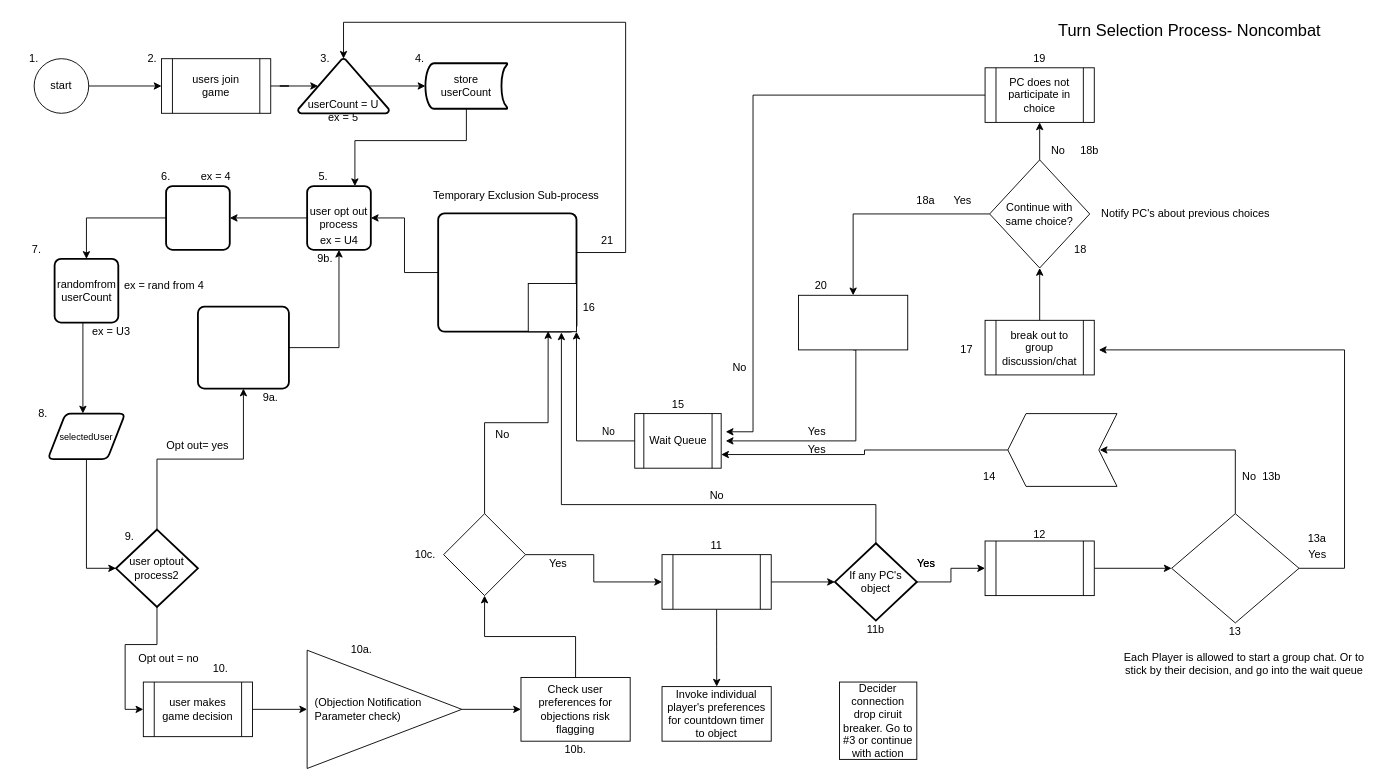
Image size: 1387x784. Some labels were removed from this diagram. The centre of each missing label's shape, as x and y in pixels:
"// If all users opt out; add a rest period?" belongs at [243,347].
"Continue with choice?" belongs at [1062,449].
"Decision Maker is shown the number of objections" belongs at [1039,568].
"Do you want to start a group discussion?" belongs at [1235,568].
"exceeds risk threshold" belongs at [484,554].
"Impliment action" belongs at [551,307].
"PC participates in choice" belongs at [853,322].
"UI presents choice related to objections (Y/N)" belongs at [716,581].
"userCount - optout" belongs at [197,217].
